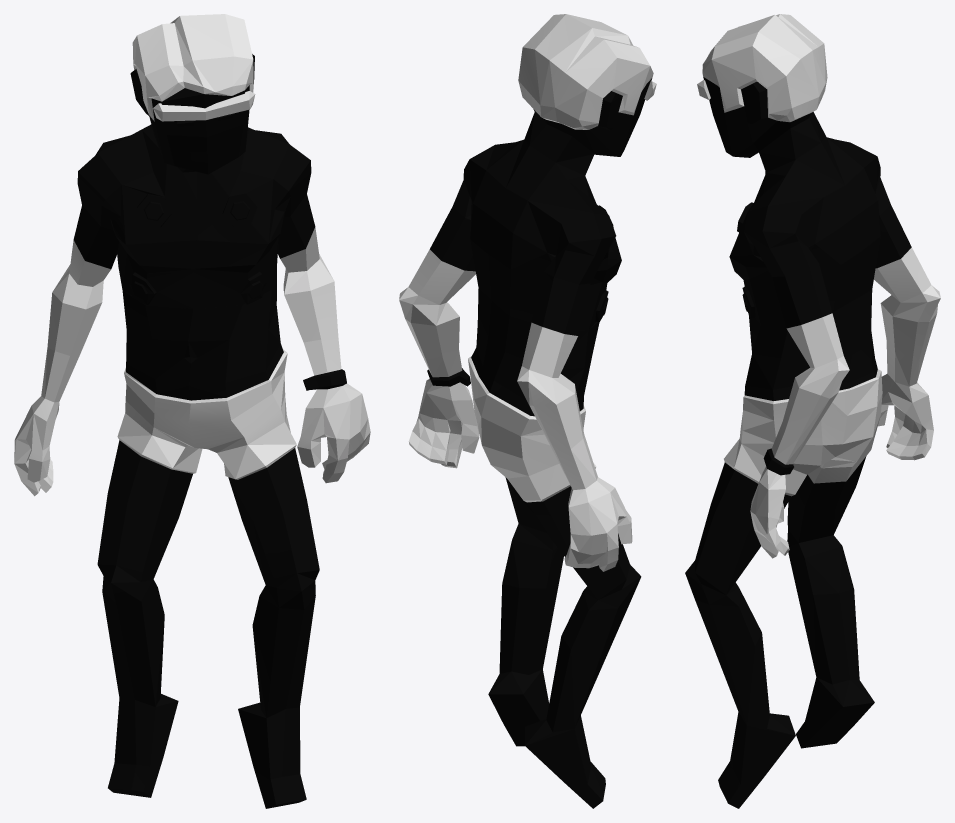
Rendered from space_SM_Prop_Chr_Male_Cryo_02.gltf.
3 views of the same model, side by side, from view 1: azimuth 30°, elevation 25°; view 2: azimuth 150°, elevation 25°; view 3: azimuth 270°, elevation 25° (orthographic). The views are drawn at different scales.
Visible parts, largest first — view 1: SM_Prop_Chr_Male_Cryo_02; view 2: SM_Prop_Chr_Male_Cryo_02; view 3: SM_Prop_Chr_Male_Cryo_02.
Boxes of the visible parts, x1,y1,x2,y2 form: SM_Prop_Chr_Male_Cryo_02: (14,14,370,808); SM_Prop_Chr_Male_Cryo_02: (399,14,656,808); SM_Prop_Chr_Male_Cryo_02: (685,14,940,808).
Bounding box in the file's own units: 0.6966 × 1.85 × 0.574.
1 material, 1 textured.
